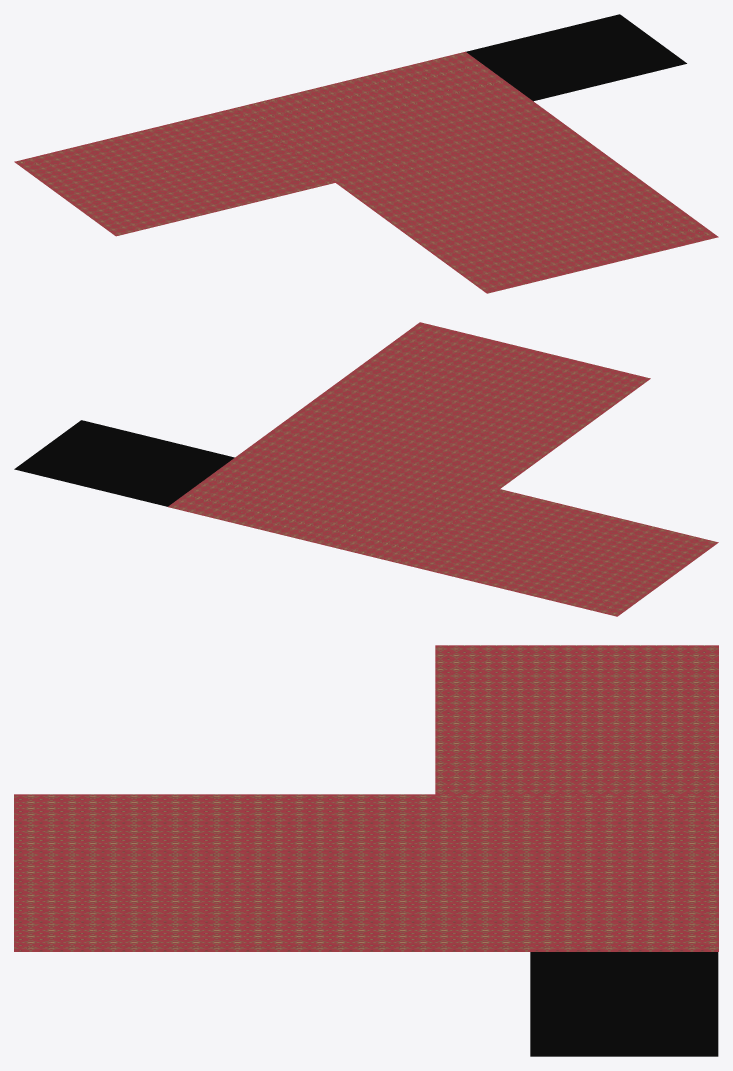
Rendered from Floor.fbx.
The picture shows the model from 3 angles, top to bottom: view 1: azimuth 30°, elevation 25°; view 2: azimuth 150°, elevation 25°; view 3: azimuth 270°, elevation 25°; orthographic projection. The views are drawn at different scales.
Parts seen in each view (by area): view 1: Floor, Floor.002; view 2: Floor, Floor.002; view 3: Floor, Floor.002.
Part boxes in pixels (x1,y1,x2,y2): Floor: (234, 14, 718, 293); Floor.002: (14, 108, 334, 236); Floor: (14, 322, 650, 563); Floor.002: (399, 489, 718, 616); Floor: (14, 794, 718, 1056); Floor.002: (435, 645, 718, 794).
Bounding box in the file's own units: 4739 × 0.000559 × 3434.
